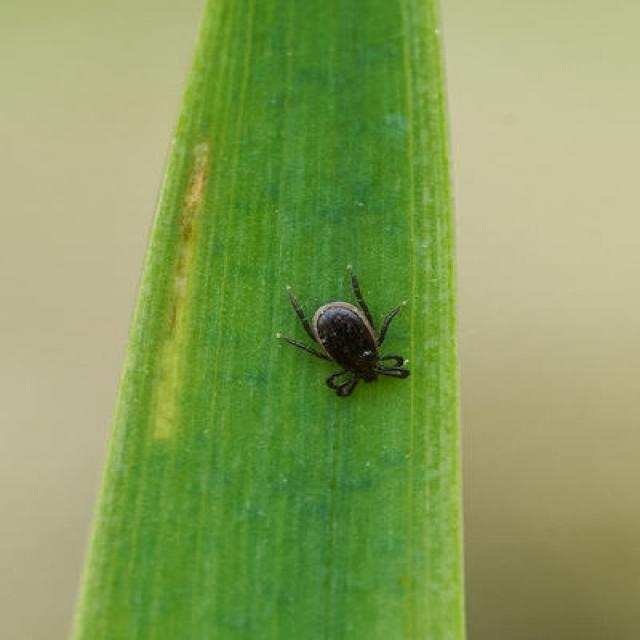Ixodes Ricinus-M: (274, 276, 411, 399)
